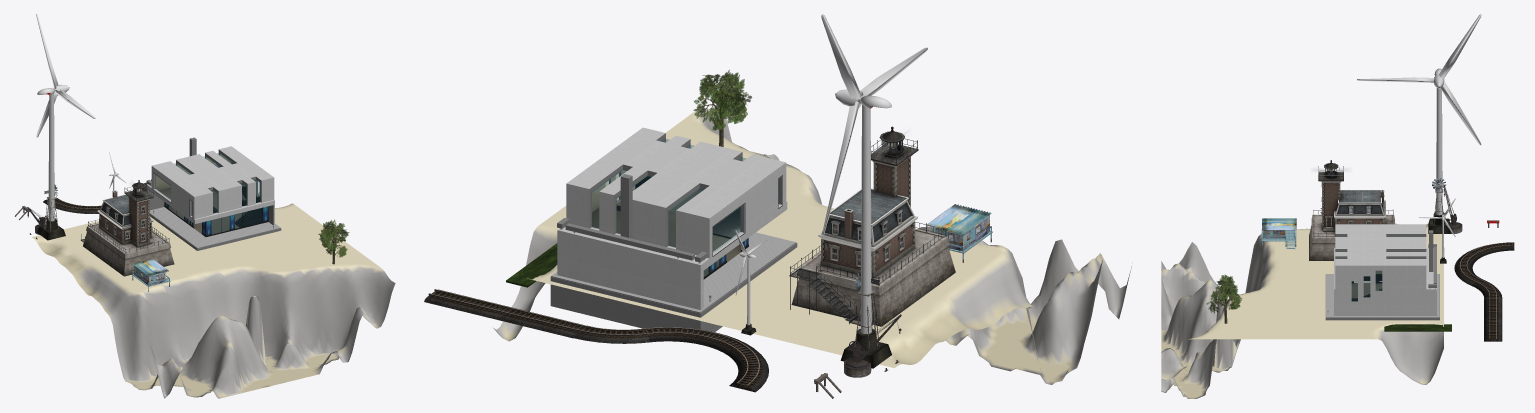
3 renders of one model, left to right at view 1: azimuth 30°, elevation 25°; view 2: azimuth 150°, elevation 25°; view 3: azimuth 270°, elevation 25°, orthographic. The views are drawn at different scales.
Visible parts, largest first — view 1: Terrain 0,3, A&M_ House1 - The Diplomat (×3), Diamond Bay Lighthouse (×4), SF Wind Turbine, Cube, Matilda Beach Shack, Tree small; view 2: A&M_ House1 - The Diplomat (×3), Terrain 0,3, Diamond Bay Lighthouse (×7), Train TRACKCURVE 01 prim (×4), SF Wind Turbine, Cube, Tree small, Matilda Beach Shack, TRACKSTRAIGHT32 Rail, Rail Network, Object; view 3: Terrain 0,3, A&M_ House1 - The Diplomat (×3), Diamond Bay Lighthouse (×4), Train TRACKCURVE 01 prim (×4), Cube, SF Wind Turbine, Matilda Beach Shack, Tree small, Object, TRACKSTRAIGHT32 Rail, Rail Network.
Part boxes in pixels (x1,y1,x2,y2): Terrain 0,3: (32,192,395,398); A&M_ House1 - The Diplomat (×3): (146,137,281,250); Diamond Bay Lighthouse (×4): (83,194,174,276); SF Wind Turbine: (37,88,65,240); Cube: (36,14,95,137); Matilda Beach Shack: (132,259,170,291); Tree small: (318,219,349,257); A&M_ House1 - The Diplomat (×3): (550,127,797,332); Terrain 0,3: (493,104,1131,384); Diamond Bay Lighthouse (×7): (789,140,955,326); Train TRACKCURVE 01 prim (×4): (573,325,768,392); SF Wind Turbine: (840,95,891,368); Cube: (821,14,927,235); Tree small: (693,70,751,130); Matilda Beach Shack: (927,204,992,262); TRACKSTRAIGHT32 Rail: (424,289,512,319); Rail Network: (499,307,583,338); Object: (506,243,557,287); Terrain 0,3: (1161,223,1443,398); A&M_ House1 - The Diplomat (×3): (1325,224,1439,320); Diamond Bay Lighthouse (×4): (1309,182,1394,260); Train TRACKCURVE 01 prim (×4): (1454,242,1514,298); Cube: (1357,14,1481,145); SF Wind Turbine: (1428,68,1450,233); Matilda Beach Shack: (1261,218,1296,249); Tree small: (1206,275,1242,313); Object: (1384,324,1451,331); TRACKSTRAIGHT32 Rail: (1484,317,1502,341); Rail Network: (1484,295,1502,319).
Size of the model in its own units: 66.42 by 74.85 by 81.41.
86 materials, 84 textured.
